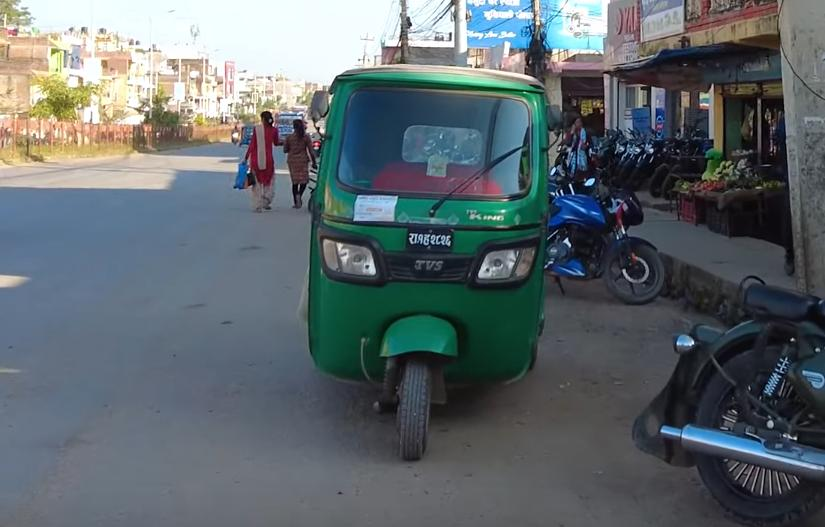auto_rickshaw: (298, 62, 563, 468)
bike: (630, 275, 825, 522), (541, 179, 674, 306)
